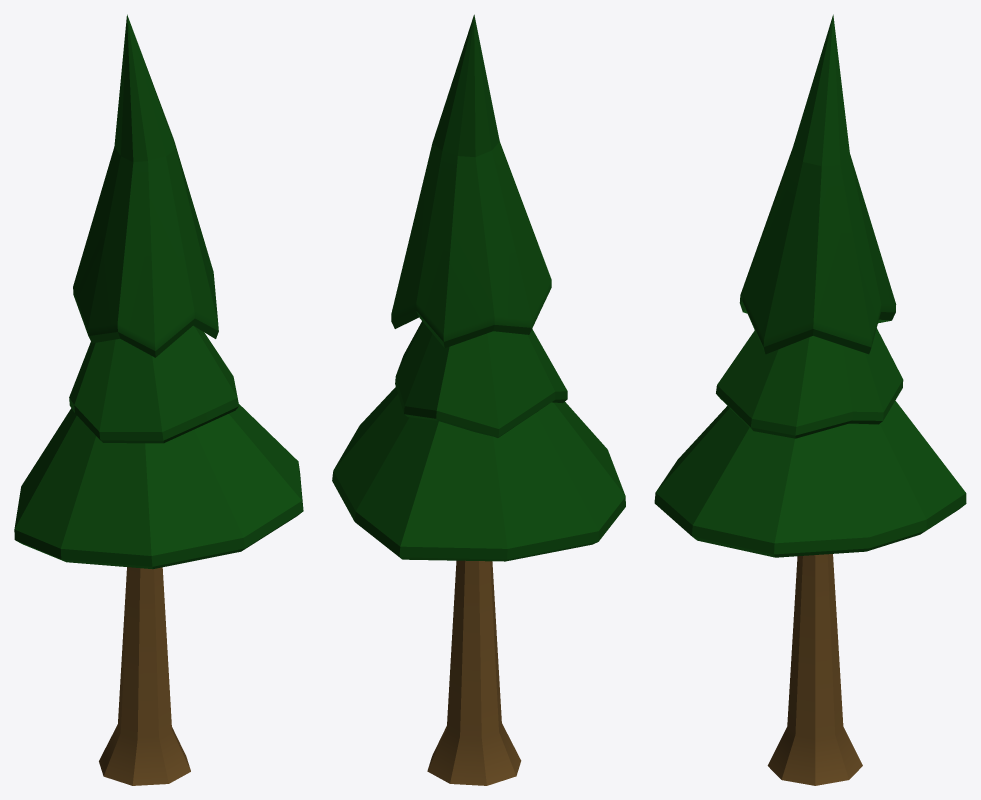
Rendered from asset_BigTree_04.fbx.
The picture shows the model from 3 angles, left to right: view 1: azimuth 30°, elevation 25°; view 2: azimuth 150°, elevation 25°; view 3: azimuth 270°, elevation 25°; orthographic projection.
Visible parts, largest first — view 1: Big_Tree_04; view 2: Big_Tree_04; view 3: Big_Tree_04.
Boxes of the visible parts, box(x1,y1,x2,y2) form: Big_Tree_04: box(14, 14, 303, 785); Big_Tree_04: box(332, 14, 625, 785); Big_Tree_04: box(654, 14, 966, 785).
Bounding box in the file's own units: 188 × 515 × 195.
